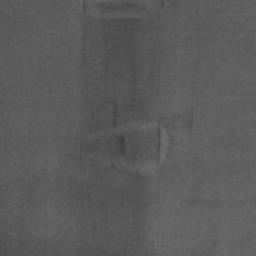Rolled pit: (86, 122, 168, 174), (85, 17, 138, 68)
